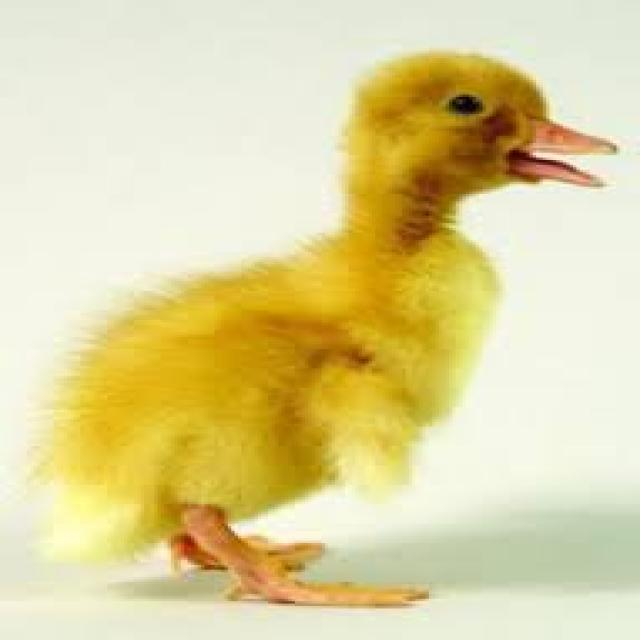Duck: (60, 41, 627, 613)
